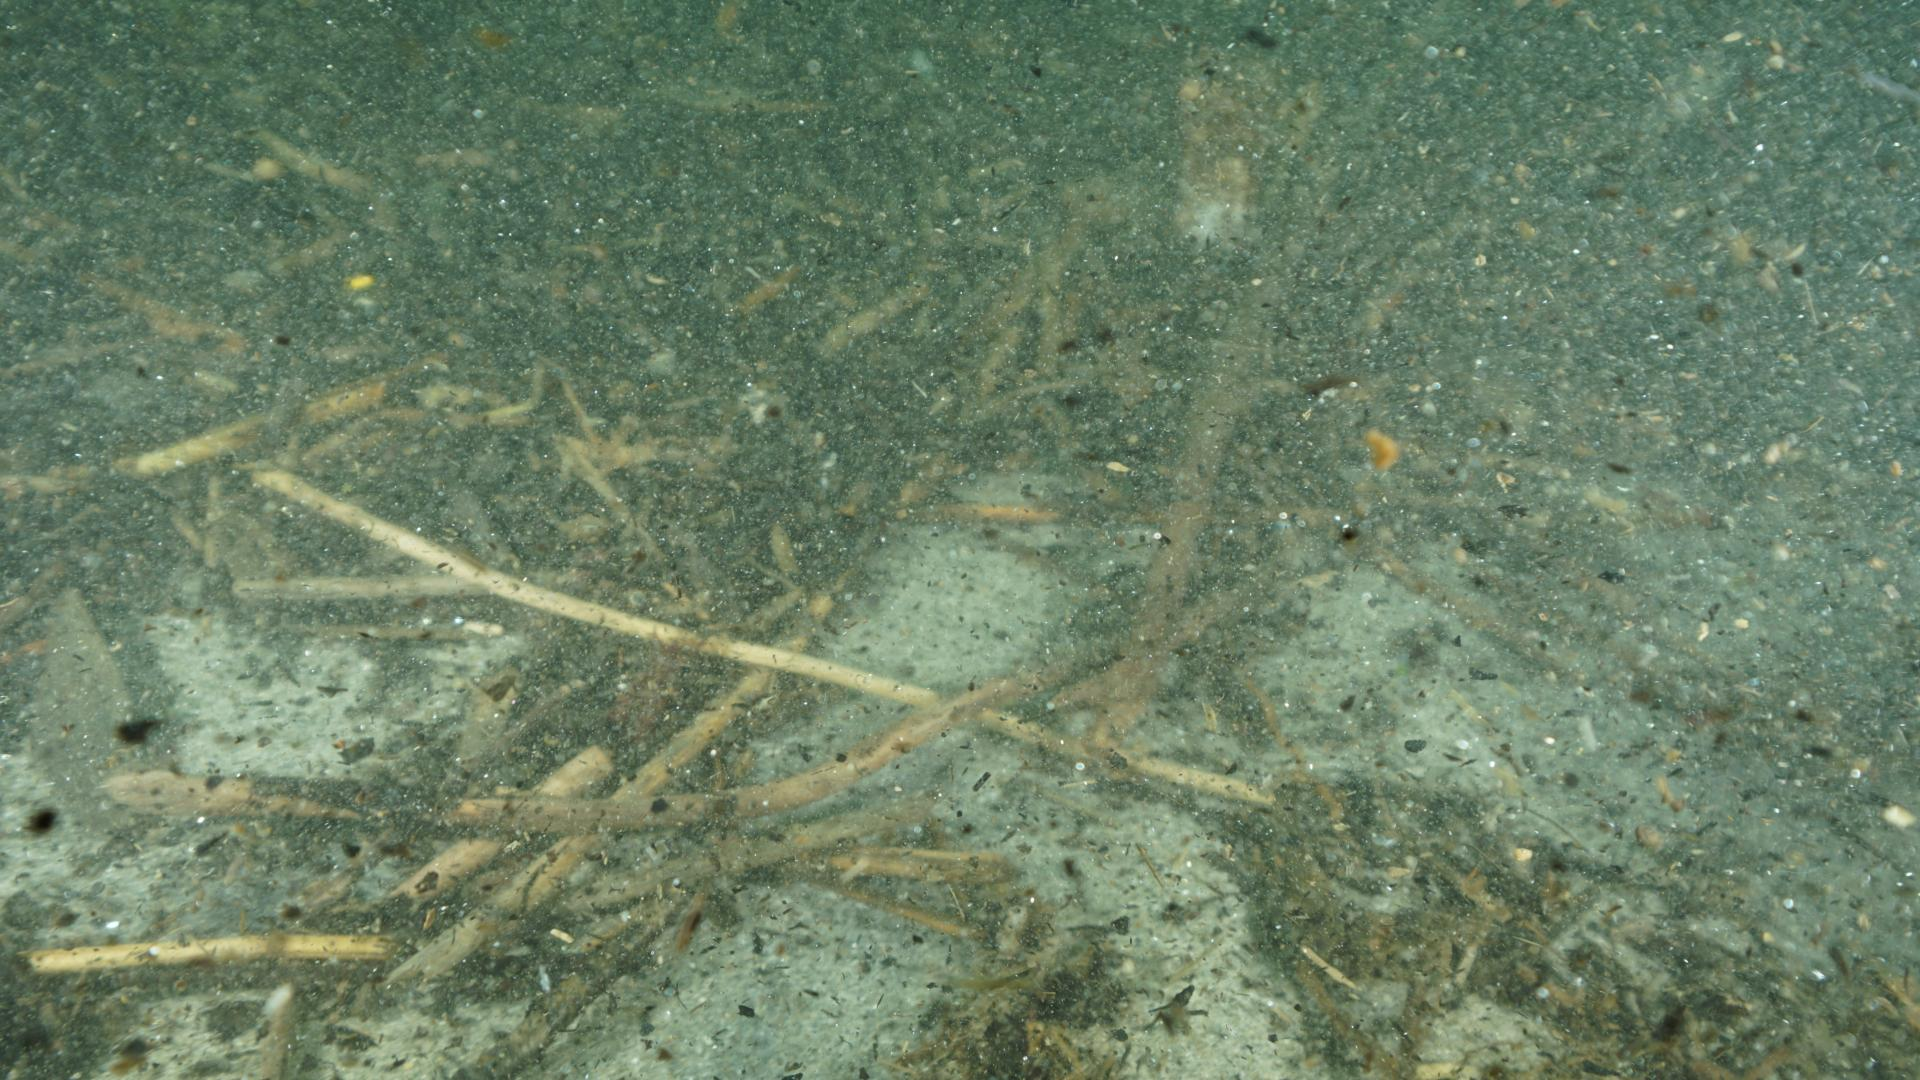wood: (117, 103, 1507, 848), (232, 465, 1269, 811), (20, 585, 856, 985)
